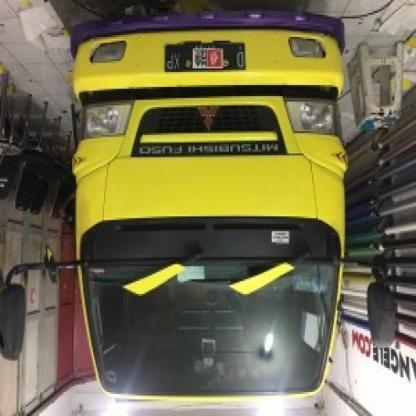truck: (2, 3, 401, 410)
